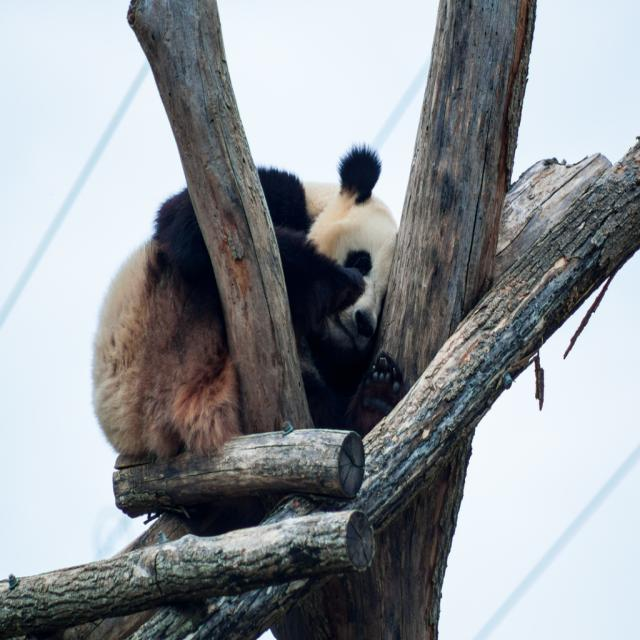panda: (78, 138, 409, 458)
